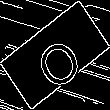O_NW: (26, 22, 84, 88)
